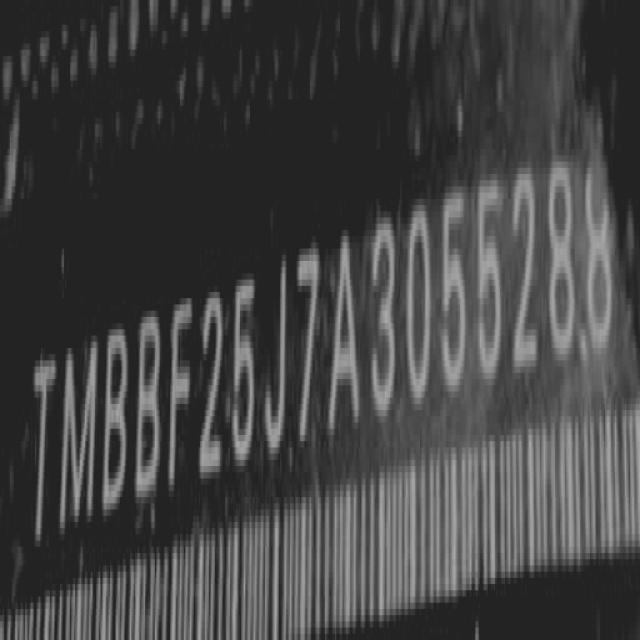0: (406, 199, 436, 416)
2: (511, 160, 543, 383), (198, 284, 228, 489)
3: (370, 212, 399, 428)
5: (473, 165, 505, 391), (438, 184, 469, 404), (229, 266, 256, 477)
7: (296, 232, 324, 458)
8: (545, 159, 576, 374), (102, 319, 132, 524), (585, 173, 616, 364)
A: (330, 225, 365, 446)
B: (135, 297, 163, 511)
F: (170, 288, 193, 494)
J: (262, 251, 290, 460)
M: (59, 332, 101, 538)
T: (29, 354, 58, 546)
